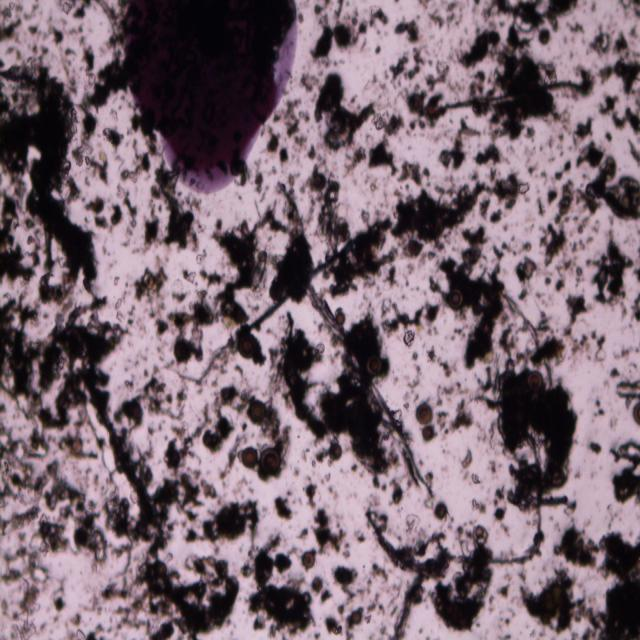Background material: (0, 57, 100, 303), (0, 298, 122, 427), (480, 367, 580, 515), (0, 428, 107, 564), (308, 169, 402, 300), (108, 552, 242, 638), (243, 238, 354, 333), (439, 228, 511, 364), (308, 381, 398, 481), (384, 174, 488, 260), (240, 531, 316, 637), (268, 305, 316, 445), (258, 181, 312, 299), (212, 217, 259, 332), (591, 529, 640, 637), (430, 563, 496, 637), (315, 74, 377, 151), (514, 573, 592, 633), (152, 163, 204, 252), (470, 90, 559, 138), (329, 237, 393, 296), (204, 384, 250, 466), (158, 290, 214, 357), (53, 1, 99, 82), (496, 28, 560, 85), (154, 477, 206, 546), (77, 42, 126, 113), (162, 405, 212, 473), (588, 233, 634, 306), (193, 329, 250, 384), (482, 0, 578, 32), (3, 572, 47, 638), (270, 101, 316, 164), (0, 3, 54, 56), (199, 498, 261, 544), (312, 2, 358, 64), (72, 111, 111, 184), (473, 174, 529, 224), (378, 300, 439, 344), (310, 505, 352, 562), (551, 521, 599, 569), (438, 120, 480, 170), (139, 372, 188, 414), (450, 28, 502, 66), (593, 55, 640, 97), (611, 436, 640, 504), (437, 386, 473, 438), (567, 331, 609, 369), (598, 95, 640, 133), (348, 317, 384, 361), (544, 180, 578, 226), (83, 194, 124, 232), (456, 526, 494, 562), (132, 264, 171, 299), (537, 224, 569, 266), (388, 48, 426, 80), (136, 210, 162, 255), (122, 143, 151, 183), (367, 138, 397, 176), (402, 345, 420, 407), (521, 145, 550, 183), (375, 107, 405, 142), (556, 255, 586, 290), (354, 6, 392, 33), (563, 293, 591, 329), (332, 568, 363, 600), (120, 396, 146, 434), (472, 142, 508, 169), (70, 612, 107, 638), (121, 192, 139, 245), (586, 25, 614, 59), (513, 258, 537, 296), (424, 3, 462, 27), (237, 160, 266, 191), (341, 606, 370, 636), (392, 17, 422, 45), (429, 344, 456, 375), (423, 92, 445, 130), (52, 572, 70, 618), (272, 489, 294, 524), (399, 160, 431, 184), (575, 142, 605, 167), (570, 115, 597, 142), (466, 70, 494, 96), (424, 64, 452, 90), (610, 27, 635, 56), (103, 122, 127, 152), (344, 146, 368, 176), (614, 378, 640, 404), (479, 197, 503, 225), (132, 316, 160, 339), (312, 575, 333, 605), (450, 448, 472, 475), (196, 270, 224, 290), (496, 570, 514, 601), (631, 264, 640, 322), (492, 488, 508, 520), (302, 482, 320, 507), (73, 4, 93, 24), (553, 160, 573, 180), (606, 354, 622, 379), (627, 137, 640, 165), (534, 27, 554, 45), (620, 0, 640, 18), (592, 397, 606, 417), (390, 484, 403, 505), (203, 480, 217, 498), (566, 20, 584, 34), (632, 401, 640, 426), (587, 440, 602, 452), (371, 41, 382, 56)
Cellulose filter fibre: (307, 287, 427, 486), (78, 371, 154, 534), (364, 513, 438, 637), (435, 72, 593, 117), (502, 286, 552, 390)
Diatom: (452, 472, 546, 570), (573, 154, 640, 223), (250, 249, 268, 293), (259, 448, 281, 475), (363, 352, 384, 378), (238, 336, 258, 359), (173, 338, 192, 361), (248, 402, 267, 425), (526, 371, 544, 393), (415, 401, 432, 424), (241, 445, 257, 469), (446, 289, 464, 310), (408, 94, 423, 114), (432, 501, 448, 519), (302, 550, 314, 570), (422, 424, 434, 441), (335, 310, 345, 325)
Pen: (119, 0, 298, 193)
